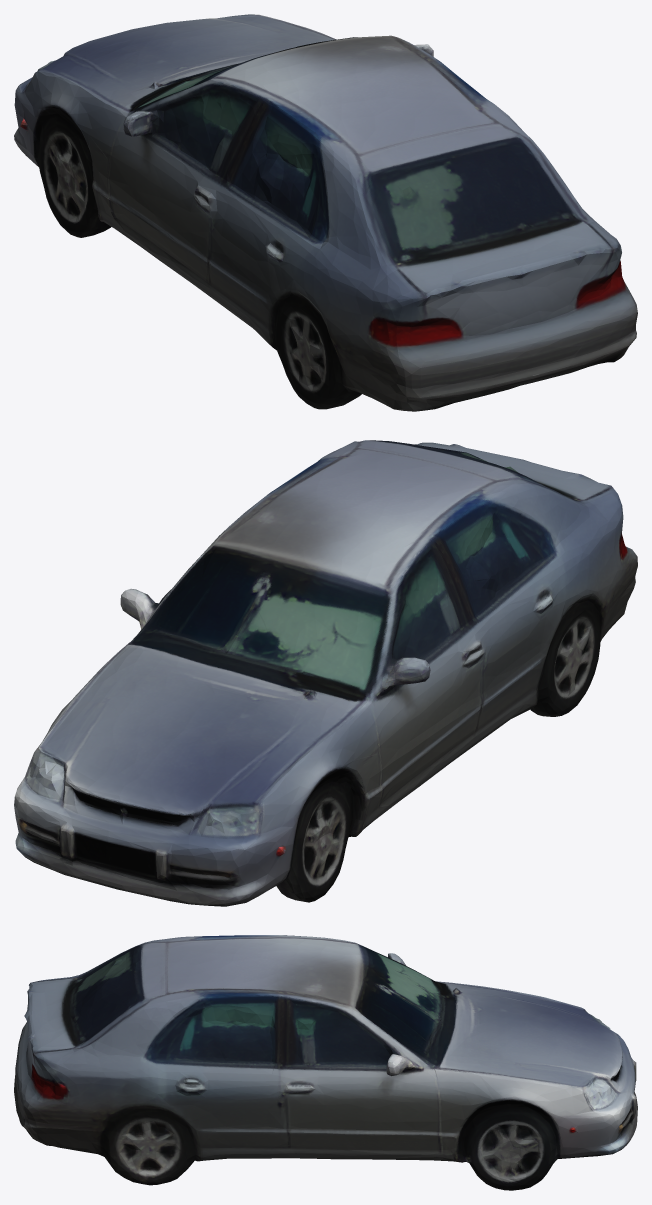
Rendered from sample.glb.
The picture shows the model from 3 angles, top to bottom: view 1: azimuth 30°, elevation 25°; view 2: azimuth 150°, elevation 25°; view 3: azimuth 270°, elevation 25°; orthographic projection. The views are drawn at different scales.
Visible parts, largest first — view 1: world; view 2: world; view 3: world.
Part boxes in pixels (x1,y1,x2,y2): world: [14, 14, 637, 411]; world: [14, 440, 637, 906]; world: [14, 935, 637, 1190].
Size of the model in its own units: 0.4229 by 0.3228 by 0.9929.
Materials: 1 (1 with a texture image).
